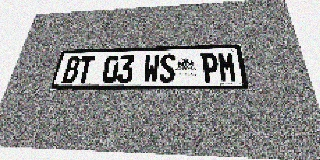0: (101, 55, 120, 83)
3: (117, 55, 135, 83)
B: (61, 56, 81, 83)
M: (217, 52, 238, 82)
P: (201, 53, 220, 82)
S: (159, 54, 175, 83)
T: (76, 56, 95, 83)
W: (143, 54, 160, 83)
